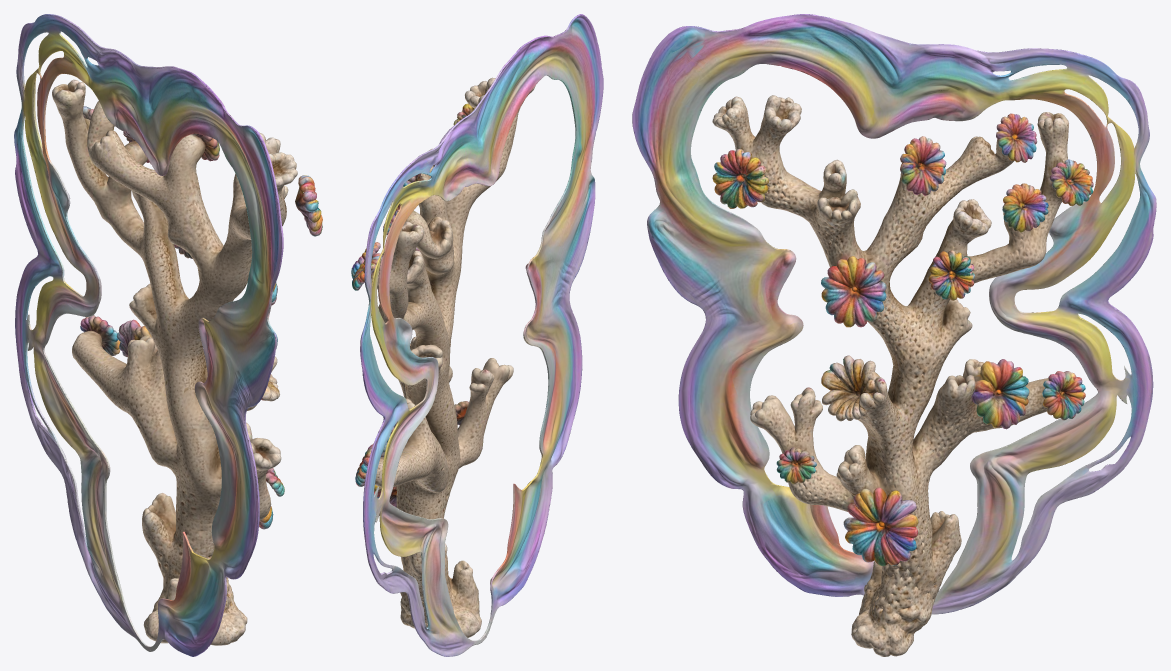
The picture shows the model from 3 angles, left to right: view 1: azimuth 30°, elevation 25°; view 2: azimuth 150°, elevation 25°; view 3: azimuth 270°, elevation 25°; orthographic projection. The views are drawn at different scales.
Size of the model in its own units: 0.2246 by 0.9787 by 0.7699.
Materials: 1 (1 with a texture image).
